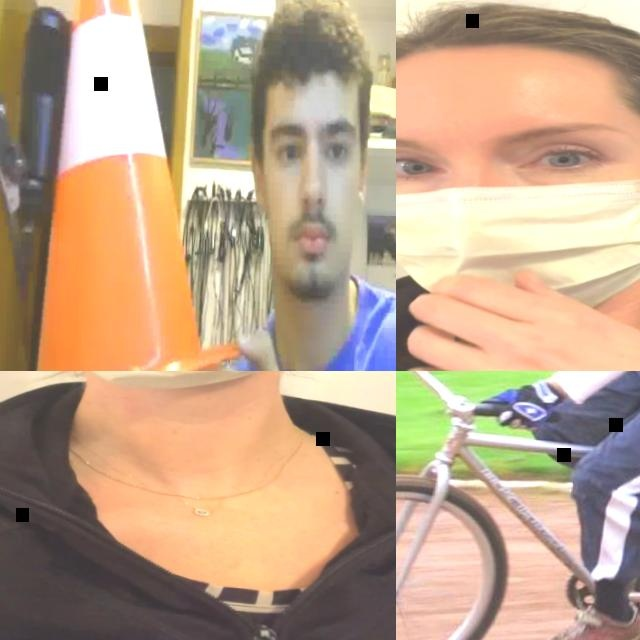Mask: (396, 131, 640, 314)
NO-Hardhat: (396, 0, 640, 105), (258, 0, 366, 105)
NO-Mask: (267, 211, 353, 294)
NO-Safety Vest: (0, 390, 396, 640), (235, 286, 396, 371)
Person: (3, 0, 396, 371), (0, 371, 396, 640), (396, 0, 640, 371), (396, 371, 640, 640)
Safety Cone: (0, 0, 254, 371)
